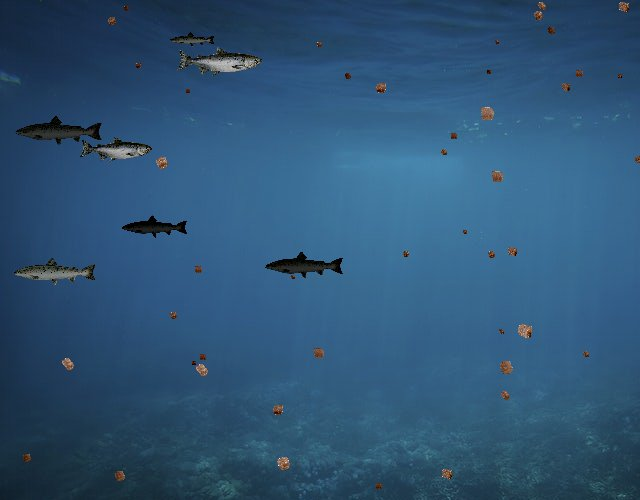Fish: (15, 115, 105, 147), (12, 256, 98, 287), (176, 46, 262, 77), (264, 251, 345, 280), (80, 137, 153, 163), (122, 215, 190, 239), (169, 31, 216, 48)
Pellet: (473, 99, 501, 127), (485, 164, 509, 188), (495, 385, 515, 405), (528, 5, 548, 25), (372, 479, 386, 493), (313, 38, 326, 51), (460, 226, 470, 237)
